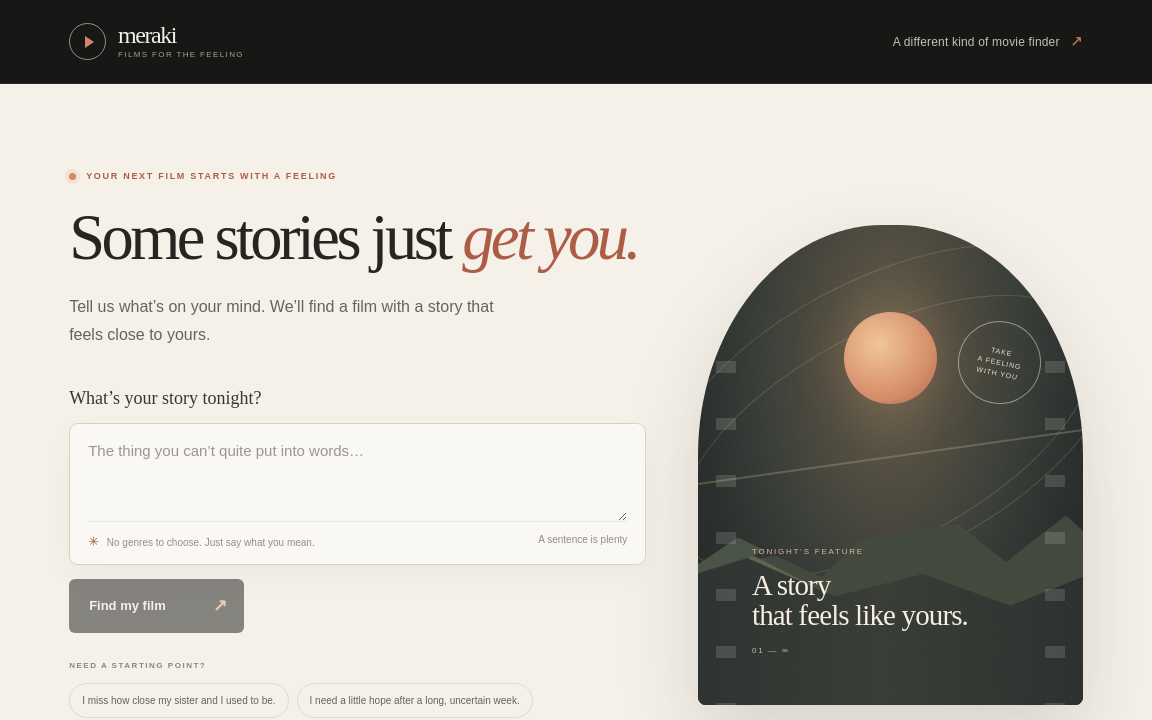
it: story-first discovery page › shows the AI service error instead of fake or generic recommendations
Step 1. Type "I need a story about finding my way after graduation." into the text box labelled "What’s your story tonight?" → (358, 480), box [88,439,627,521]
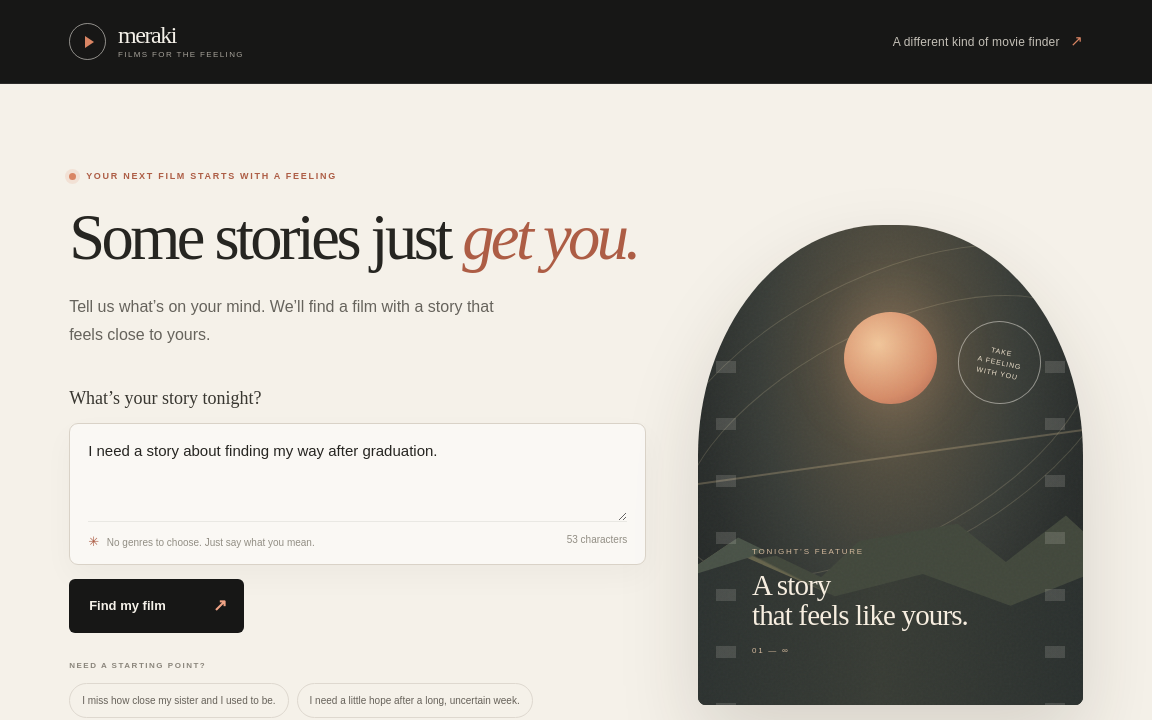
Step 2. Click the button "Find my film ↗" → (157, 606), box [69,579,244,633]
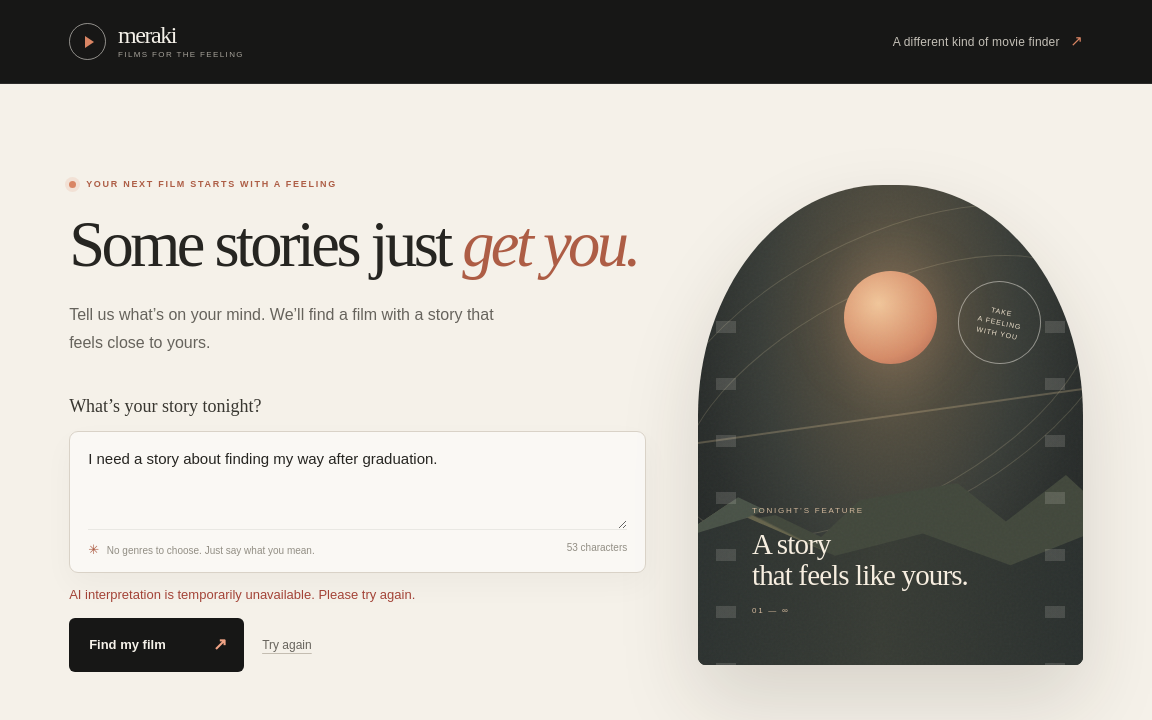
expect the message shows "AI interpretation is temporarily unavailable": met, box [69,587,415,602]
